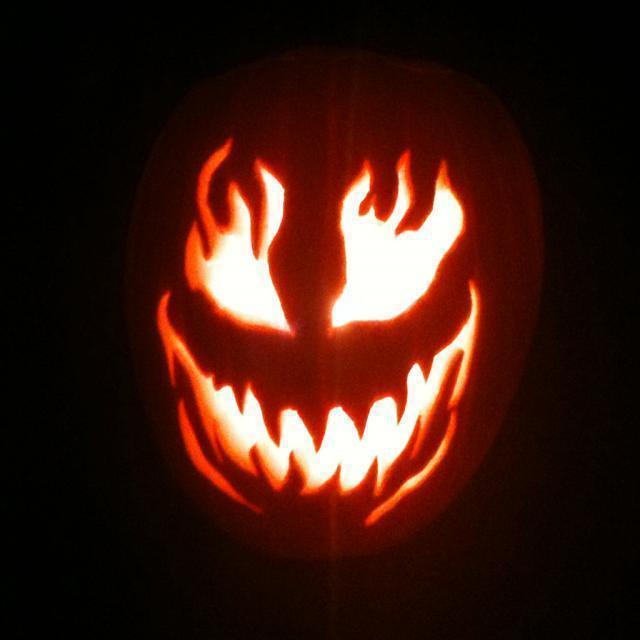Pumpkin: (123, 45, 545, 566)
